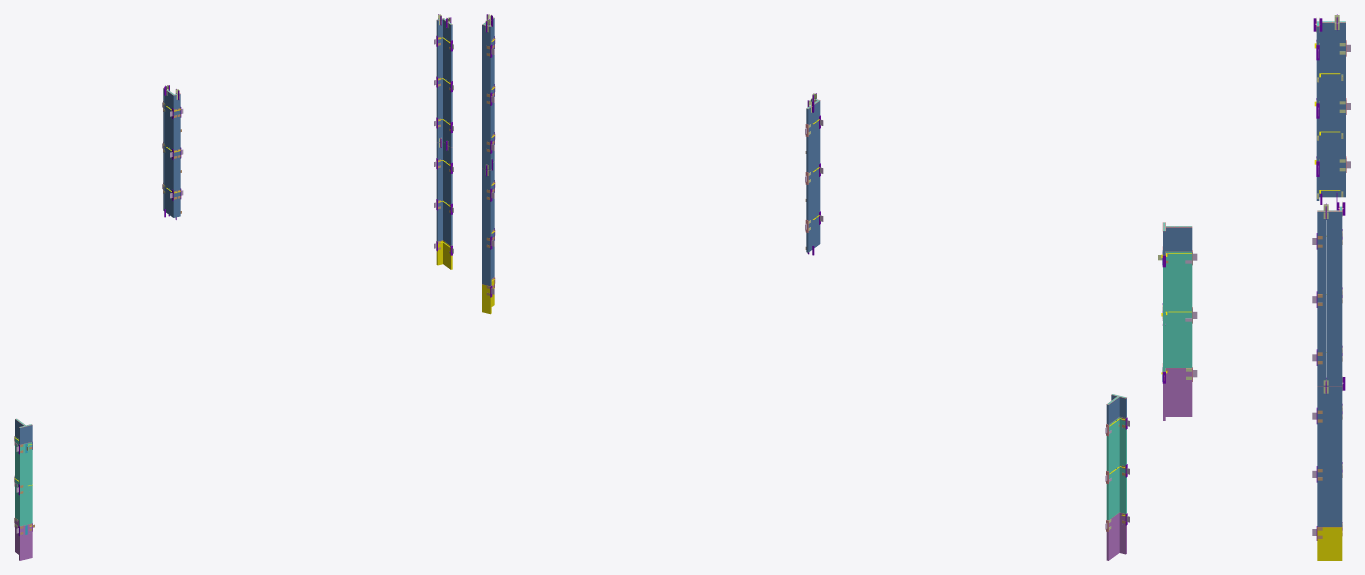
3 views of the same model, side by side, from view 1: azimuth 30°, elevation 25°; view 2: azimuth 150°, elevation 25°; view 3: azimuth 270°, elevation 25° (orthographic). The views are drawn at different scales.
Visible parts, largest first — view 1: no part large enough to name; view 2: no part large enough to name; view 3: 18-4GSQ[1WK$8x001O9p4sCJOnCp4r], 18-4GSQ[1WL_ax0000eZ4sCJOpDpGm], 18-4GSQ[1WL_ax0000jZ4sCJOpDpGm], 18-4GSQ[1WK$8x001NsJ4sCJOnCp4r], 18-4GSQ[1WK$8x001OOJ4sCJOnCp4r], 18-4GSQ[1WL_ax0000Y34sCJOpDpGm], 18-4GSQ[1WL_ax0000MJ4sCJOpDpGm], 18-4GSQ[1WK$8x001Obp4sCJOnCp4r], 18-4GSQ[1WK$8x001NS34sCJOnCp4r], 18-3GSQ[1UjAgI0011cp4rE3WvC3Om], 18-4GSQ[1WL_ax00000p4sCJOpDpGm], 18-4GSQ[1WK$8x001OhJ4sCJOnCp4r] (+15 smaller).
Part boxes in pixels (x1,y1,x2,y2): 18-4GSQ[1WK$8x001O9p4sCJOnCp4r]: (1328,23,1332,197); 18-4GSQ[1WL_ax0000eZ4sCJOpDpGm]: (1330,212,1334,386); 18-4GSQ[1WL_ax0000jZ4sCJOpDpGm]: (1335,212,1339,386); 18-4GSQ[1WK$8x001NsJ4sCJOnCp4r]: (1324,23,1328,197); 18-4GSQ[1WK$8x001OOJ4sCJOnCp4r]: (1332,23,1336,197); 18-4GSQ[1WL_ax0000Y34sCJOpDpGm]: (1326,212,1330,386); 18-4GSQ[1WL_ax0000MJ4sCJOpDpGm]: (1321,212,1325,386); 18-4GSQ[1WK$8x001Obp4sCJOnCp4r]: (1337,23,1341,197); 18-4GSQ[1WK$8x001NS34sCJOnCp4r]: (1319,23,1323,197); 18-3GSQ[1UjAgI0011cp4rE3WvC3Om]: (1321,386,1326,526); 18-4GSQ[1WL_ax00000p4sCJOpDpGm]: (1317,212,1321,386); 18-4GSQ[1WK$8x001OhJ4sCJOnCp4r]: (1341,23,1345,197).
Size of the model in its own units: 36.52 by 27.16 by 8.71.
